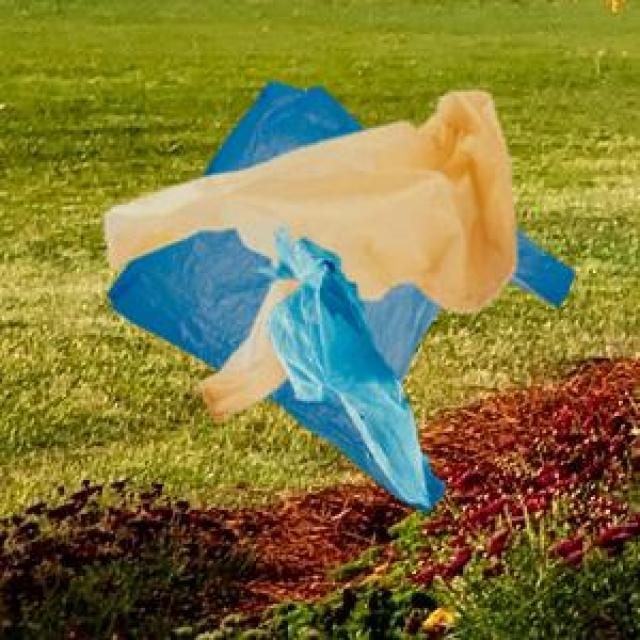plastic: (78, 56, 604, 532)
